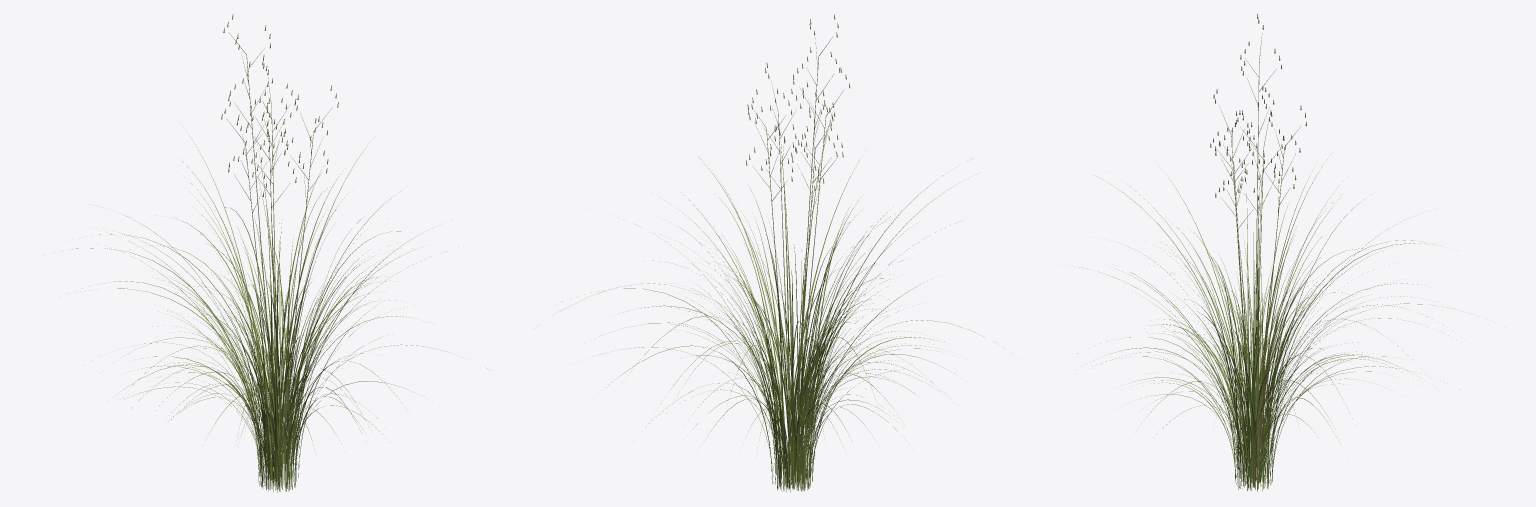
3 views of the same model, side by side, from view 1: azimuth 30°, elevation 25°; view 2: azimuth 150°, elevation 25°; view 3: azimuth 270°, elevation 25° (orthographic). The views are drawn at different scales.
Parts seen in each view (by area): view 1: Blades • Leaf green, Blades • Leaf forest, Blades • Leaf young, Blades • Leaf shaded, Flowering culms • Leaf olive, Blades • Dry sheath, Blades • Leaf olive, Spikelets • Dry sheath, Panicle branches • Leaf olive; view 2: Blades • Leaf green, Blades • Leaf forest, Blades • Leaf young, Blades • Leaf shaded, Flowering culms • Leaf olive, Blades • Dry sheath, Blades • Leaf olive, Spikelets • Dry sheath, Panicle branches • Leaf olive; view 3: Blades • Leaf green, Blades • Leaf forest, Blades • Leaf young, Blades • Leaf shaded, Flowering culms • Leaf olive, Blades • Dry sheath, Blades • Leaf olive, Spikelets • Dry sheath, Panicle branches • Leaf olive.
Boxes of the visible parts, <box> form: Blades • Leaf green: <box>99,161,414,492</box>; Blades • Leaf forest: <box>76,166,420,491</box>; Blades • Leaf young: <box>59,127,432,491</box>; Blades • Leaf shaded: <box>126,149,412,490</box>; Flowering culms • Leaf olive: <box>245,55,313,485</box>; Blades • Dry sheath: <box>113,195,362,489</box>; Blades • Leaf olive: <box>121,188,489,486</box>; Spikelets • Dry sheath: <box>221,14,338,196</box>; Panicle branches • Leaf olive: <box>227,33,331,212</box>; Blades • Leaf green: <box>591,152,976,492</box>; Blades • Leaf forest: <box>606,193,985,492</box>; Blades • Leaf young: <box>637,156,943,490</box>; Blades • Leaf shaded: <box>644,126,922,490</box>; Flowering culms • Leaf olive: <box>766,57,826,485</box>; Blades • Dry sheath: <box>687,249,954,490</box>; Blades • Leaf olive: <box>597,236,941,488</box>; Spikelets • Dry sheath: <box>746,14,850,190</box>; Panicle branches • Leaf olive: <box>752,37,844,216</box>; Blades • Leaf green: <box>1074,160,1505,491</box>; Blades • Leaf forest: <box>1119,177,1443,490</box>; Blades • Leaf young: <box>1109,182,1460,489</box>; Blades • Leaf shaded: <box>1077,159,1448,490</box>; Flowering culms • Leaf olive: <box>1231,63,1284,485</box>; Blades • Dry sheath: <box>1163,257,1320,491</box>; Blades • Leaf olive: <box>1141,276,1425,488</box>; Spikelets • Dry sheath: <box>1210,14,1306,208</box>; Panicle branches • Leaf olive: <box>1216,33,1300,228</box>.
Size of the model in its own units: 0.3863 by 0.441 by 0.4151.
